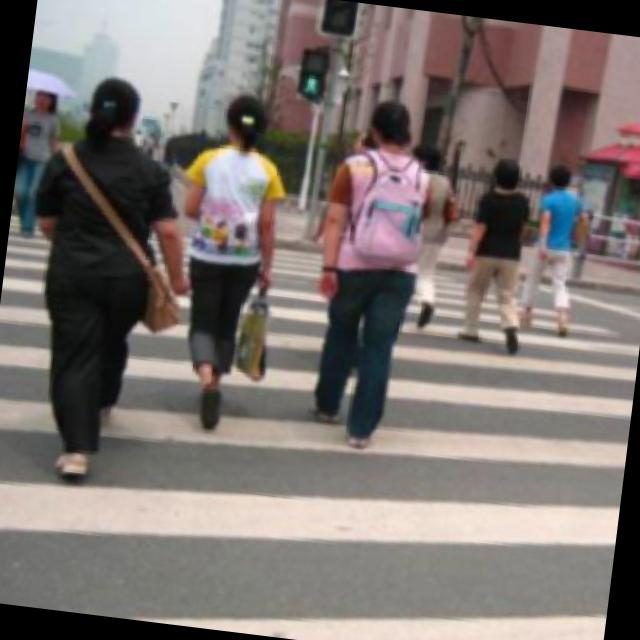Person: (0, 57, 211, 486), (292, 91, 444, 457), (149, 84, 292, 443), (464, 148, 544, 358), (520, 158, 600, 342)
